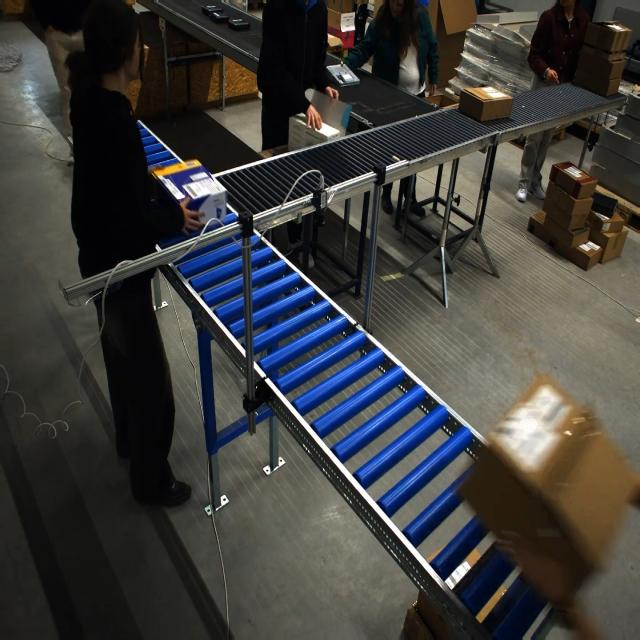box: (458, 381, 636, 596), (150, 158, 228, 232), (458, 85, 514, 123)
product: (227, 19, 250, 32), (210, 12, 230, 24), (201, 5, 222, 16)
